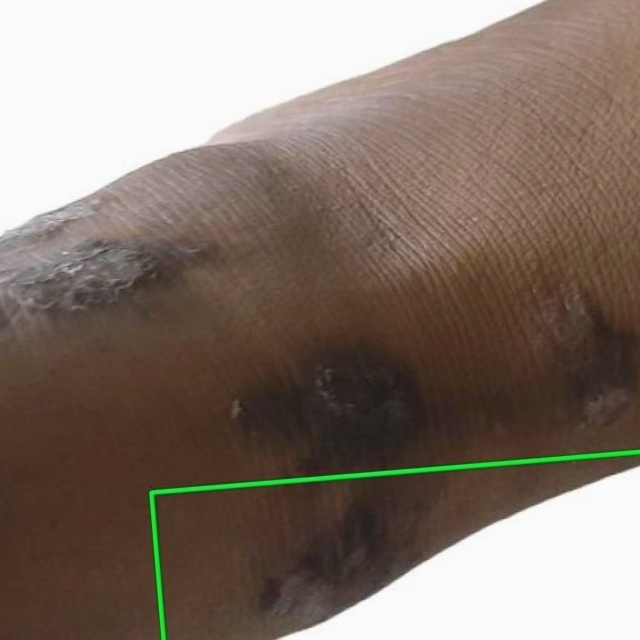Contact Dermatitis: (151, 452, 639, 639)
